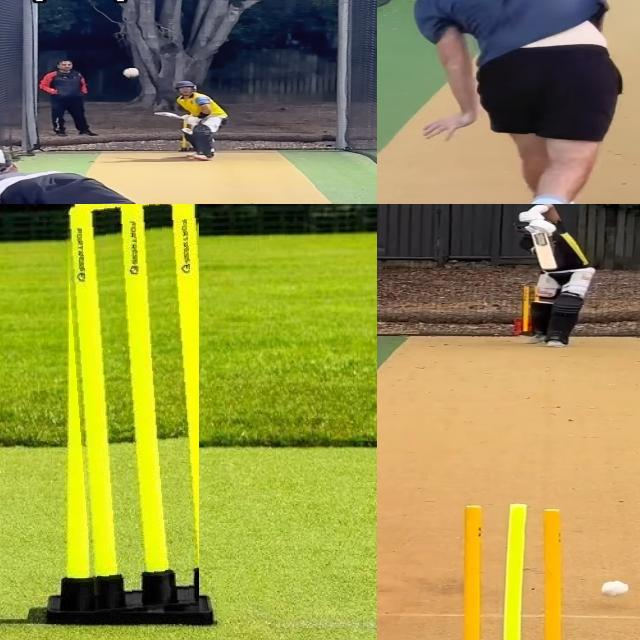Cricket ball: (597, 579, 632, 601), (123, 68, 140, 79)
Stumps: (63, 204, 199, 615), (441, 501, 581, 640)
